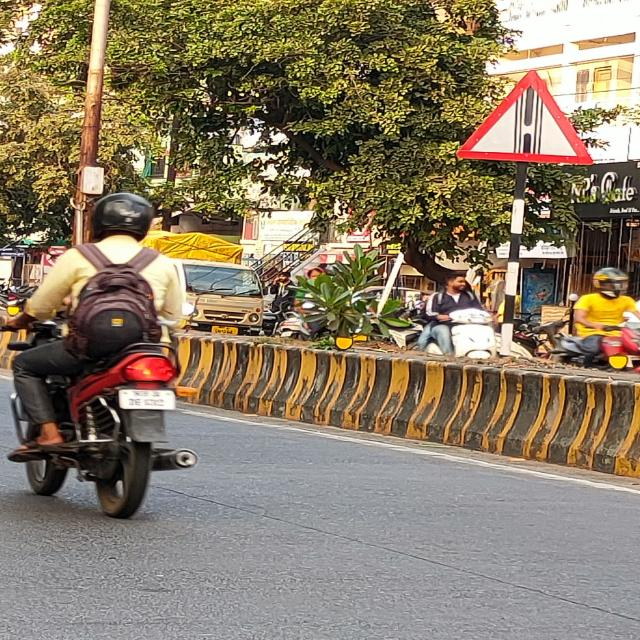ferry: (456, 71, 596, 165)
